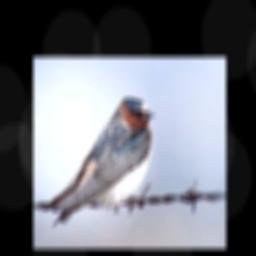Swallow: (43, 97, 154, 230)
